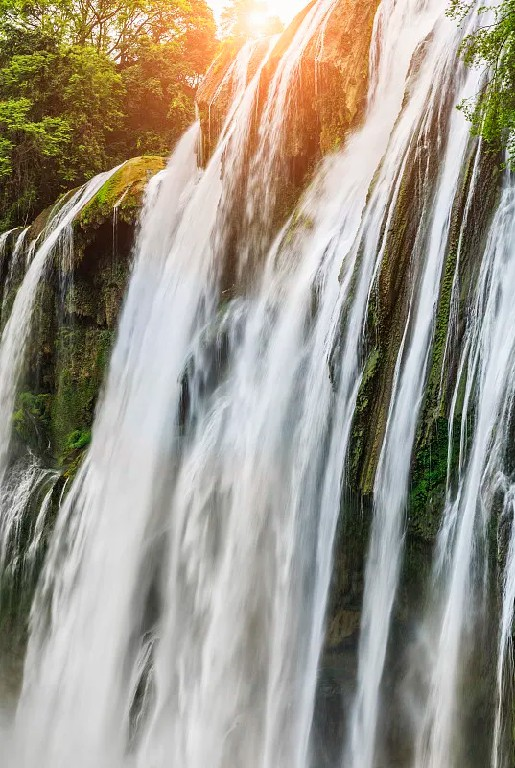Huangguoshu: (31, 1, 515, 768)
